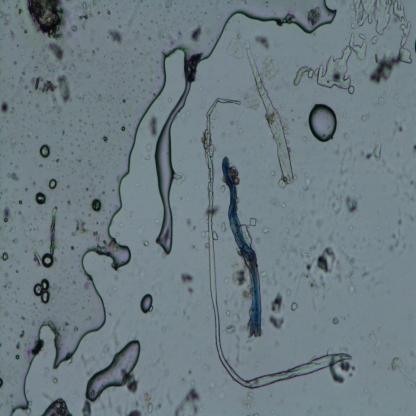Air bubble: (6, 88, 156, 415), (154, 1, 338, 255), (84, 336, 141, 406), (308, 100, 340, 145), (40, 396, 76, 416), (139, 292, 154, 314)
Background material: (294, 31, 370, 88), (350, 1, 416, 61), (30, 1, 66, 40), (32, 72, 74, 103), (388, 353, 414, 391), (369, 55, 401, 82), (171, 391, 202, 416), (377, 151, 402, 181), (184, 51, 206, 85), (390, 216, 408, 257), (224, 26, 245, 61), (268, 294, 286, 332), (336, 144, 354, 182), (332, 361, 358, 386), (301, 264, 324, 292), (286, 240, 318, 259), (258, 52, 280, 79), (342, 192, 366, 216), (32, 278, 52, 306), (143, 385, 163, 413), (388, 116, 407, 144), (297, 170, 314, 200), (318, 249, 338, 274), (357, 139, 379, 160), (286, 206, 307, 228), (230, 262, 250, 285), (344, 252, 358, 284), (77, 0, 94, 26), (254, 27, 274, 49), (243, 86, 259, 113), (232, 331, 244, 365), (46, 43, 66, 63), (80, 352, 94, 378), (330, 190, 345, 214), (70, 216, 88, 236), (238, 286, 252, 310), (367, 331, 383, 352), (106, 29, 125, 46), (110, 318, 121, 346), (51, 204, 57, 255), (38, 254, 57, 270), (192, 20, 204, 44), (146, 112, 158, 136), (185, 213, 198, 234), (178, 269, 194, 286), (34, 188, 48, 207), (280, 224, 290, 250), (97, 341, 114, 356), (92, 229, 103, 252), (30, 339, 44, 357), (282, 114, 293, 136), (39, 50, 51, 70), (80, 401, 96, 416), (160, 33, 178, 46), (70, 49, 80, 72), (38, 144, 52, 160), (270, 198, 286, 212), (243, 390, 254, 410), (163, 387, 174, 406), (364, 268, 376, 285), (335, 258, 344, 280), (91, 197, 103, 213), (0, 10, 12, 25), (137, 266, 147, 284), (104, 239, 116, 254), (51, 99, 62, 115), (32, 250, 43, 266), (125, 406, 141, 416), (25, 398, 33, 416), (207, 380, 219, 392), (87, 158, 96, 174), (0, 99, 9, 115), (18, 70, 26, 87), (363, 388, 372, 403), (376, 93, 385, 108), (178, 109, 190, 120), (95, 93, 108, 103), (182, 307, 191, 321), (48, 177, 57, 191), (70, 23, 80, 35), (9, 135, 17, 150), (226, 325, 238, 335), (146, 143, 152, 162), (190, 242, 198, 256), (288, 302, 299, 312), (23, 129, 34, 139), (4, 280, 13, 292), (43, 368, 52, 380), (126, 15, 134, 28), (76, 91, 86, 101), (346, 286, 356, 296), (266, 169, 276, 179), (226, 117, 236, 127), (272, 336, 280, 348), (3, 207, 9, 223), (411, 142, 416, 160), (330, 315, 340, 324), (262, 224, 270, 235), (408, 179, 416, 190), (272, 36, 280, 47), (186, 286, 195, 295), (83, 280, 91, 290), (160, 324, 170, 332), (106, 8, 114, 18), (202, 362, 210, 372), (300, 133, 308, 143), (346, 86, 354, 96), (3, 249, 9, 262), (10, 28, 16, 41), (165, 2, 172, 13), (233, 313, 240, 324), (362, 114, 369, 125), (111, 283, 118, 294), (91, 181, 97, 193), (286, 286, 292, 298), (218, 185, 226, 194), (148, 89, 157, 97), (16, 339, 22, 351), (218, 392, 226, 401), (127, 131, 134, 141), (9, 106, 16, 116), (36, 103, 42, 114), (410, 214, 416, 225), (21, 214, 27, 225), (12, 173, 20, 181), (176, 30, 184, 38), (51, 156, 60, 163), (188, 381, 197, 388), (262, 271, 269, 280), (32, 300, 38, 310), (32, 318, 38, 328), (168, 93, 174, 103), (14, 352, 21, 360), (20, 27, 28, 34), (14, 1, 21, 9), (19, 329, 25, 338), (256, 235, 262, 244), (0, 189, 6, 198), (350, 182, 356, 191), (120, 124, 125, 134), (119, 220, 124, 230), (146, 34, 153, 41), (51, 65, 58, 72), (154, 56, 160, 64), (139, 228, 145, 236), (344, 132, 350, 140), (0, 376, 4, 388), (187, 368, 193, 376), (280, 180, 286, 188), (34, 64, 40, 72), (18, 8, 24, 16), (20, 313, 26, 321), (10, 214, 16, 222), (124, 108, 128, 119), (144, 240, 150, 247), (12, 237, 18, 244), (165, 369, 170, 377), (86, 72, 91, 80), (53, 378, 58, 386), (78, 72, 83, 80), (31, 179, 36, 187), (50, 120, 56, 126), (102, 135, 108, 141), (66, 200, 72, 206), (22, 113, 26, 122), (149, 64, 153, 73), (76, 158, 82, 164), (64, 320, 69, 327), (8, 228, 15, 233), (74, 326, 78, 334), (40, 238, 44, 246), (215, 14, 223, 18), (79, 125, 83, 133), (129, 58, 134, 64), (140, 89, 146, 94), (121, 98, 126, 104), (377, 363, 383, 368), (210, 37, 215, 43), (114, 231, 119, 237), (5, 119, 11, 124), (88, 316, 93, 322), (61, 129, 65, 136), (181, 376, 185, 383), (319, 405, 323, 412), (107, 120, 111, 127), (3, 312, 8, 317), (139, 51, 144, 56), (92, 49, 96, 55), (110, 56, 114, 62), (18, 210, 22, 216), (97, 10, 101, 16), (19, 199, 23, 205), (13, 60, 17, 66), (308, 410, 312, 416), (70, 246, 74, 252), (186, 196, 190, 202), (204, 10, 208, 16), (64, 66, 67, 73), (227, 309, 230, 316), (115, 1, 118, 8), (70, 142, 75, 146), (60, 147, 64, 152), (188, 20, 192, 25), (96, 46, 100, 51), (38, 162, 42, 167), (30, 54, 34, 59), (108, 107, 112, 112), (69, 123, 73, 128), (16, 43, 20, 48), (15, 165, 19, 170), (7, 173, 11, 178), (102, 53, 106, 58), (119, 147, 123, 152), (276, 261, 280, 266), (117, 23, 121, 28), (66, 184, 71, 188), (79, 116, 82, 122), (86, 58, 89, 64), (139, 10, 142, 16), (157, 74, 160, 80), (25, 187, 28, 193), (124, 152, 127, 158), (100, 79, 106, 82), (138, 84, 141, 90), (77, 143, 81, 147), (142, 26, 146, 30), (14, 299, 18, 303), (101, 190, 105, 194), (24, 86, 28, 90), (24, 250, 28, 254), (28, 227, 32, 231), (207, 41, 211, 45), (29, 222, 33, 226), (133, 47, 137, 51), (22, 125, 26, 129), (12, 200, 16, 204), (140, 78, 144, 82), (190, 11, 193, 16), (107, 113, 110, 118), (116, 130, 119, 135), (5, 272, 8, 277), (113, 128, 116, 133), (84, 120, 87, 125), (28, 89, 31, 94), (88, 212, 91, 217), (112, 96, 115, 100), (64, 133, 67, 137), (135, 101, 139, 104), (87, 114, 90, 118), (145, 4, 149, 7), (85, 188, 89, 191), (101, 177, 105, 180), (140, 22, 143, 26), (108, 130, 111, 134), (57, 154, 61, 157), (28, 102, 31, 106), (6, 126, 9, 130), (122, 70, 125, 74), (128, 123, 132, 126), (9, 265, 12, 269), (73, 278, 75, 284), (92, 122, 94, 128), (10, 160, 12, 166), (119, 152, 121, 157), (116, 119, 118, 124), (0, 342, 2, 347), (196, 3, 198, 8), (84, 130, 86, 135), (54, 131, 57, 134), (140, 0, 143, 3), (137, 30, 140, 33), (112, 189, 115, 192), (70, 265, 73, 268), (17, 287, 20, 290), (133, 74, 135, 78), (132, 88, 134, 92), (20, 100, 22, 104), (34, 227, 36, 231), (130, 113, 132, 117), (121, 76, 123, 80), (16, 270, 18, 274), (110, 86, 112, 90), (210, 2, 212, 5), (122, 80, 124, 83), (200, 11, 202, 14), (157, 25, 159, 28), (150, 79, 152, 82), (96, 221, 98, 224), (112, 64, 114, 67), (76, 138, 78, 141), (124, 62, 127, 64), (164, 18, 166, 21), (36, 136, 38, 139), (92, 140, 94, 143), (151, 20, 153, 23), (104, 73, 106, 75), (156, 22, 158, 24), (72, 152, 74, 154), (28, 206, 30, 208), (61, 252, 63, 254), (57, 141, 59, 143), (22, 142, 23, 145), (61, 138, 62, 141)
Cellulose filter fibre: (204, 97, 354, 391), (241, 43, 297, 186)
Cotton: (223, 152, 265, 340)
Salt: (249, 217, 257, 227)
